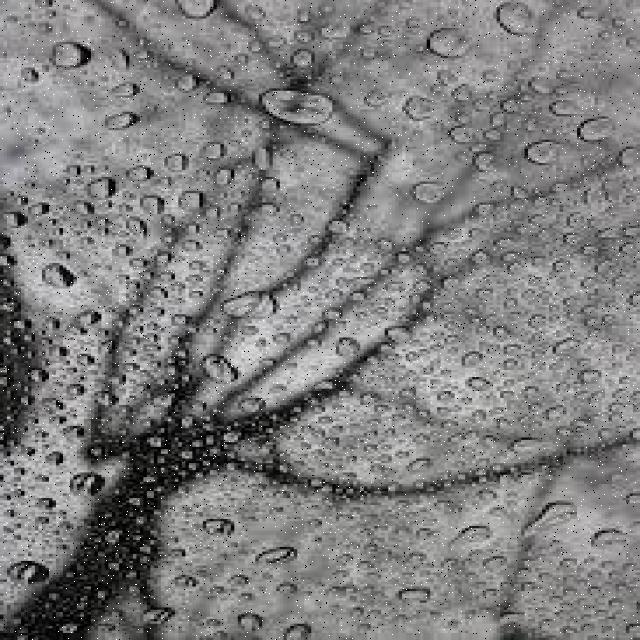raindrop: (248, 79, 349, 132), (510, 495, 582, 550), (215, 274, 285, 327), (376, 172, 456, 215), (415, 19, 478, 69), (183, 346, 250, 392), (34, 32, 99, 78), (482, 0, 552, 42), (436, 518, 502, 562), (562, 110, 625, 156), (506, 130, 572, 173), (234, 539, 308, 575), (94, 98, 150, 140), (0, 553, 57, 594), (71, 169, 123, 211), (56, 468, 112, 505), (398, 87, 442, 133), (25, 258, 80, 292), (234, 140, 277, 182), (538, 328, 596, 359), (161, 183, 219, 213), (225, 603, 272, 640), (125, 602, 182, 632), (191, 512, 247, 542), (498, 430, 554, 460), (318, 331, 364, 366), (166, 0, 222, 25), (373, 321, 426, 347), (156, 150, 202, 178), (190, 136, 236, 163), (276, 612, 318, 640), (325, 212, 366, 239)
